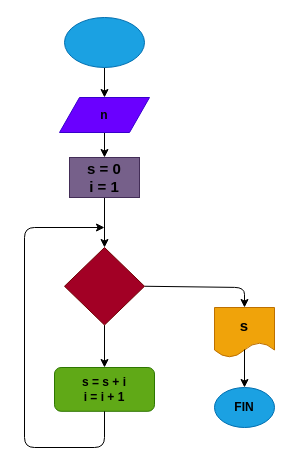
The diagram is 292 pixels wide and 473 high, and some of its shapes have lost their labels. The box of each missing label's shape, as (x1, y1, x2, y2) in pixels:
i < = n: (64, 246, 144, 325)
INICIO: (64, 16, 144, 68)
